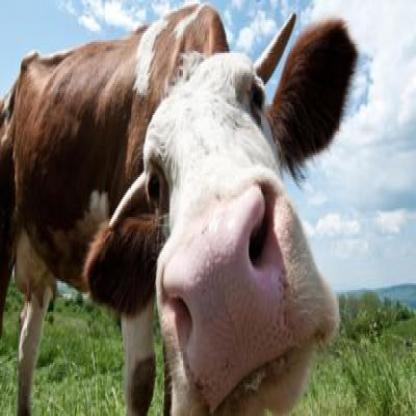lower: (250, 386, 278, 400)
mouth: (158, 209, 339, 416)
upper: (207, 256, 233, 294)
